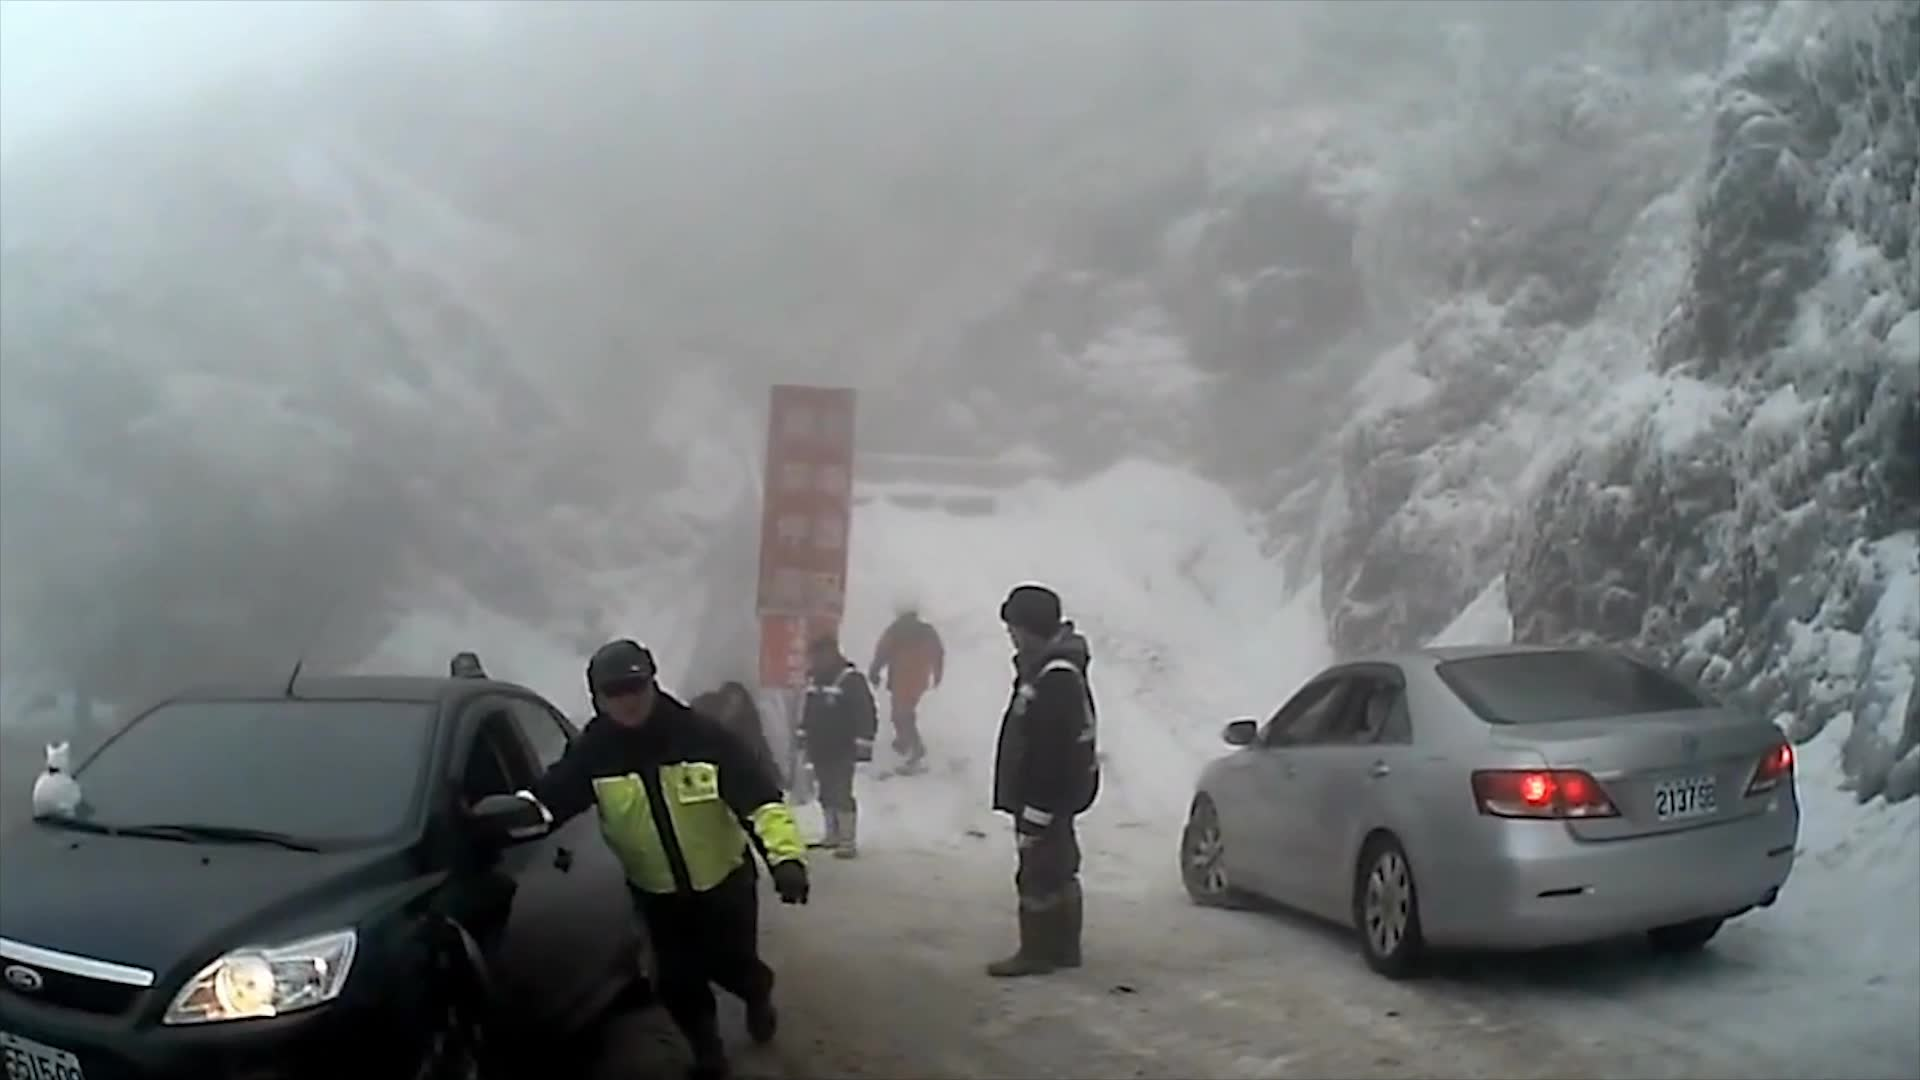pedestrian: (484, 638, 816, 1080), (965, 586, 1097, 976), (674, 675, 806, 902), (791, 631, 873, 859), (866, 592, 947, 762)
vehicle: (0, 672, 705, 1080), (1164, 640, 1795, 981)
